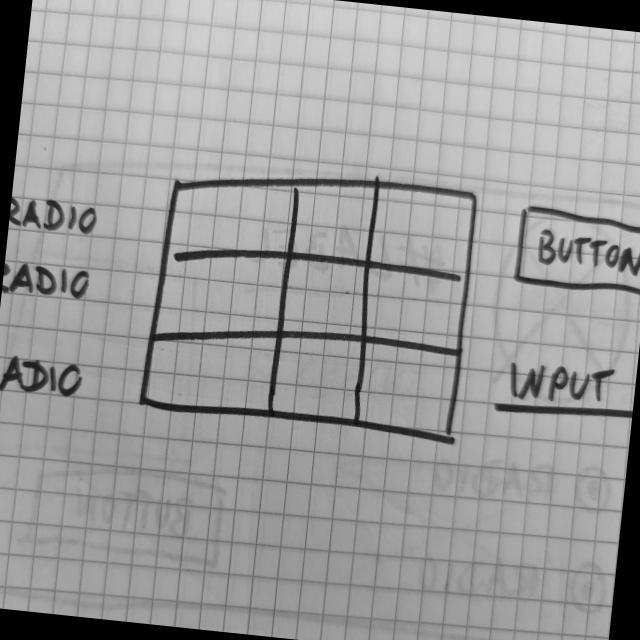button: (508, 199, 640, 301)
input: (490, 346, 638, 432)
radio: (0, 248, 96, 312), (0, 341, 90, 403), (8, 187, 102, 243)
table: (134, 153, 483, 444)
